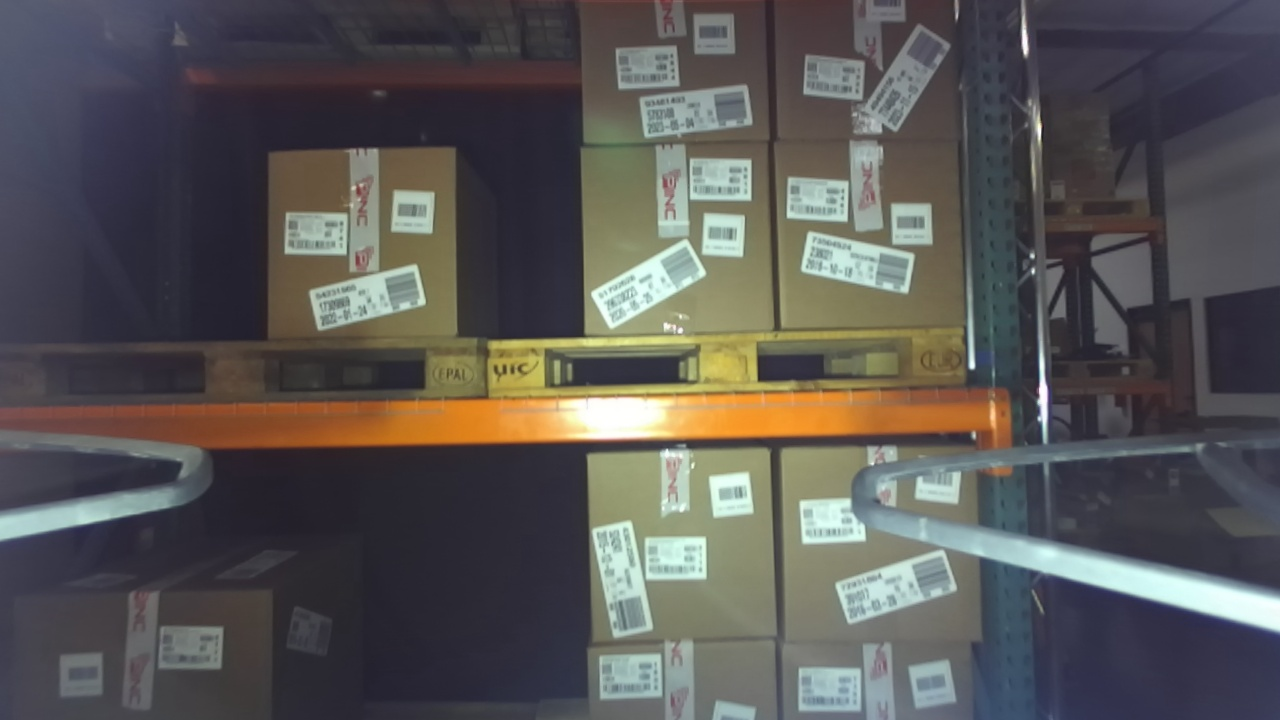box: (756, 424, 1002, 658), (242, 127, 478, 361), (752, 108, 985, 339), (557, 128, 792, 351), (565, 434, 797, 658), (755, 1, 988, 164), (558, 1, 790, 162)
